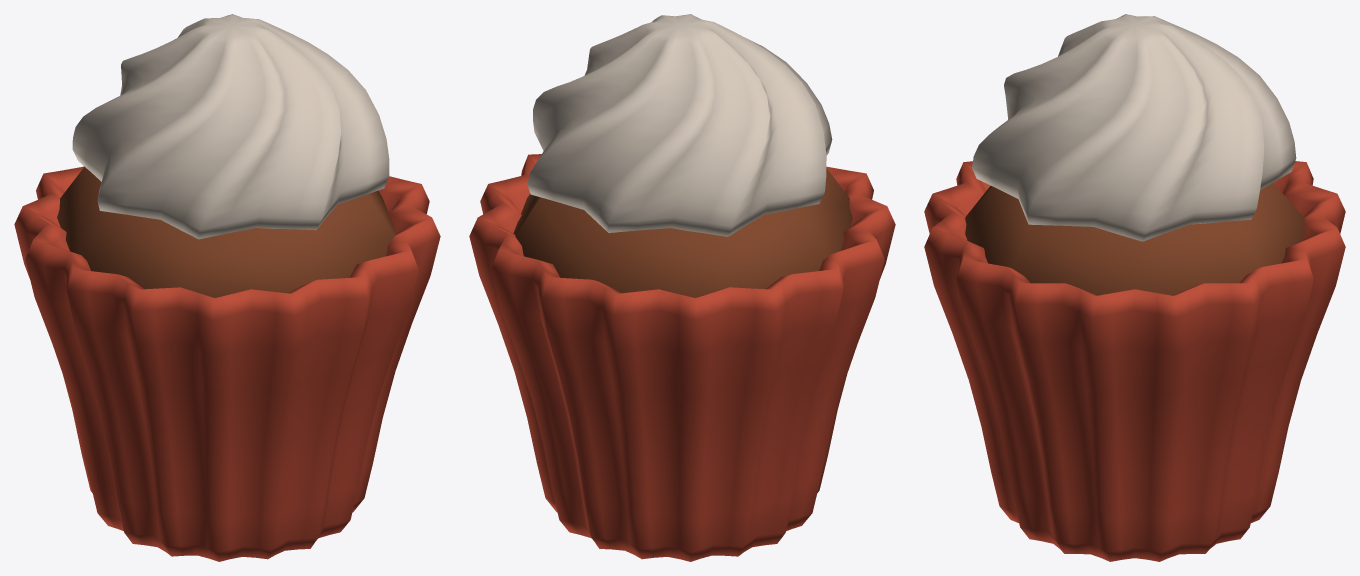
File: SM_muffin_05.glb
3 views of the same model, side by side, from view 1: azimuth 30°, elevation 25°; view 2: azimuth 150°, elevation 25°; view 3: azimuth 270°, elevation 25° (orthographic).
Visible parts, largest first — view 1: SM_muffin_05; view 2: SM_muffin_05; view 3: SM_muffin_05.
Part boxes in pixels (box(x1,y1,x2,y2)): SM_muffin_05: box(14, 14, 440, 561); SM_muffin_05: box(469, 14, 895, 561); SM_muffin_05: box(924, 14, 1345, 561).
Size of the model in its own units: 0.1335 by 0.1706 by 0.1335.
1 material, 1 textured.
